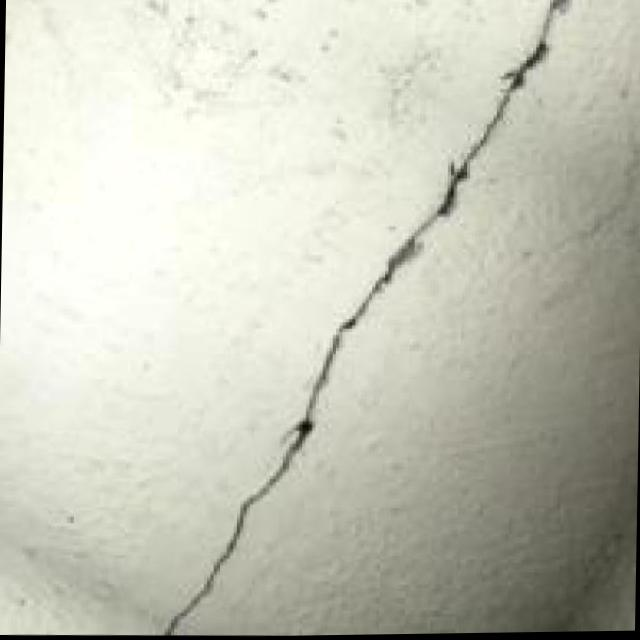Crack: (138, 0, 575, 638)
